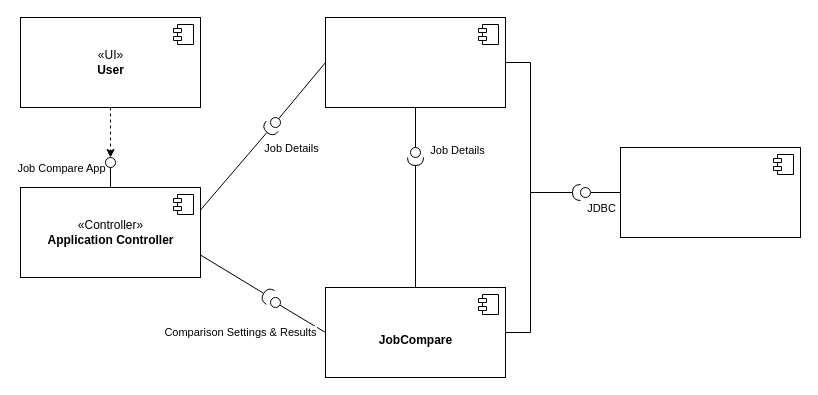
The diagram is 818 pixels wide and 395 high, and some of its shapes have lost their labels. The box of each missing label's shape, as (x1, y1, x2, y2) in pixels:
«Database» App Database: (620, 146, 800, 238)
«Model» JobEntity: (324, 16, 506, 108)
